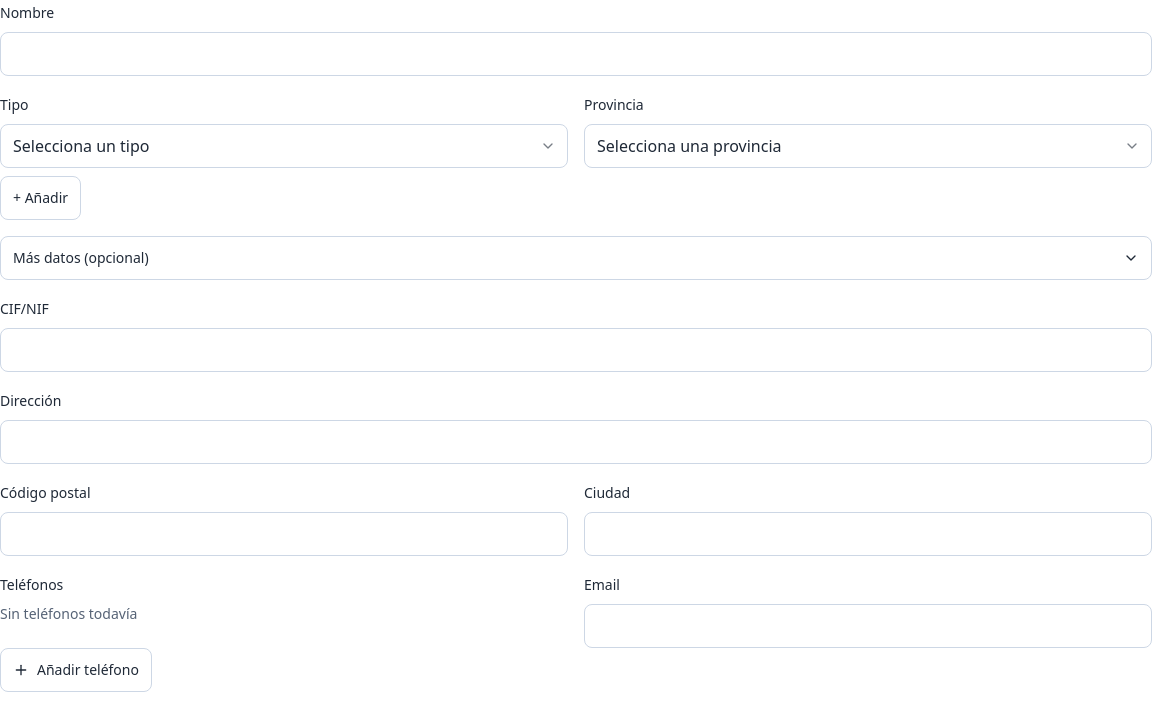
Test: AccountForm › lets an admin add an account type with its tender flag, keeping the form
Type "Consorcio de prueba" into the field labelled "Nombre" at (576, 54), box [0,32,1151,76]
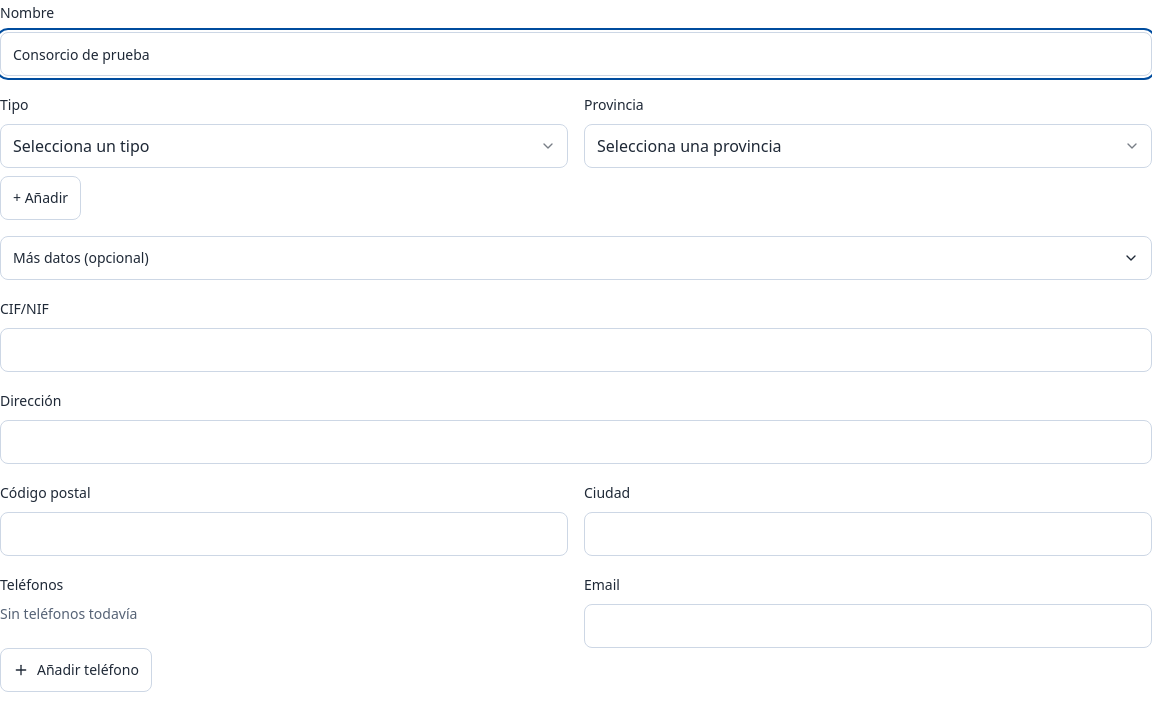
Click the button "+ Añadir" at (41, 198), box [0,176,81,220]
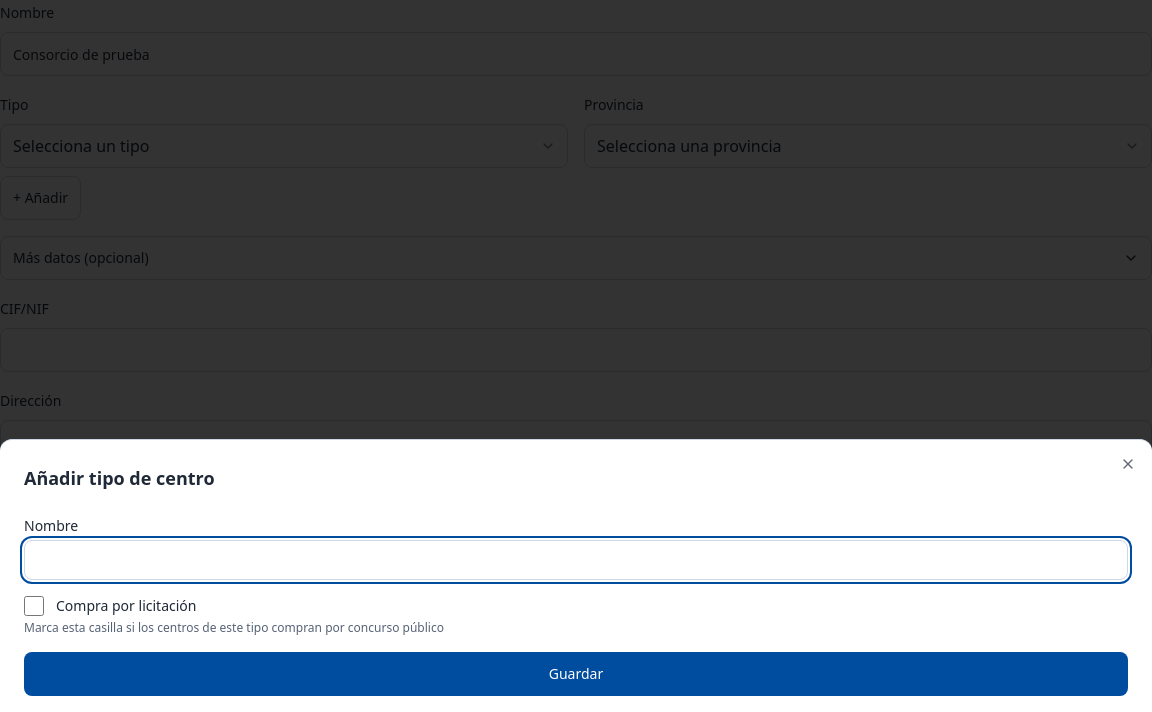
Type "Consorcio sanitario" into the field labelled "Nombre" at (576, 560), box [24,540,1128,580]
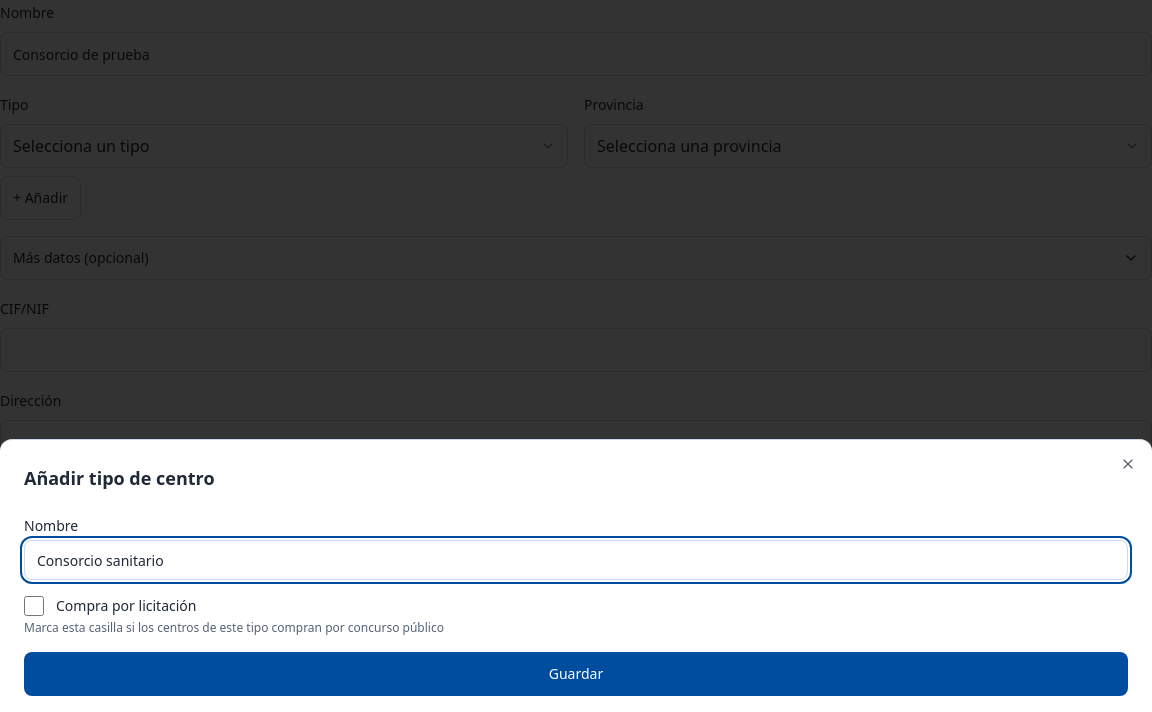
Click the checkbox labelled "Compra por licitación" at (34, 606), box [24,596,44,616]
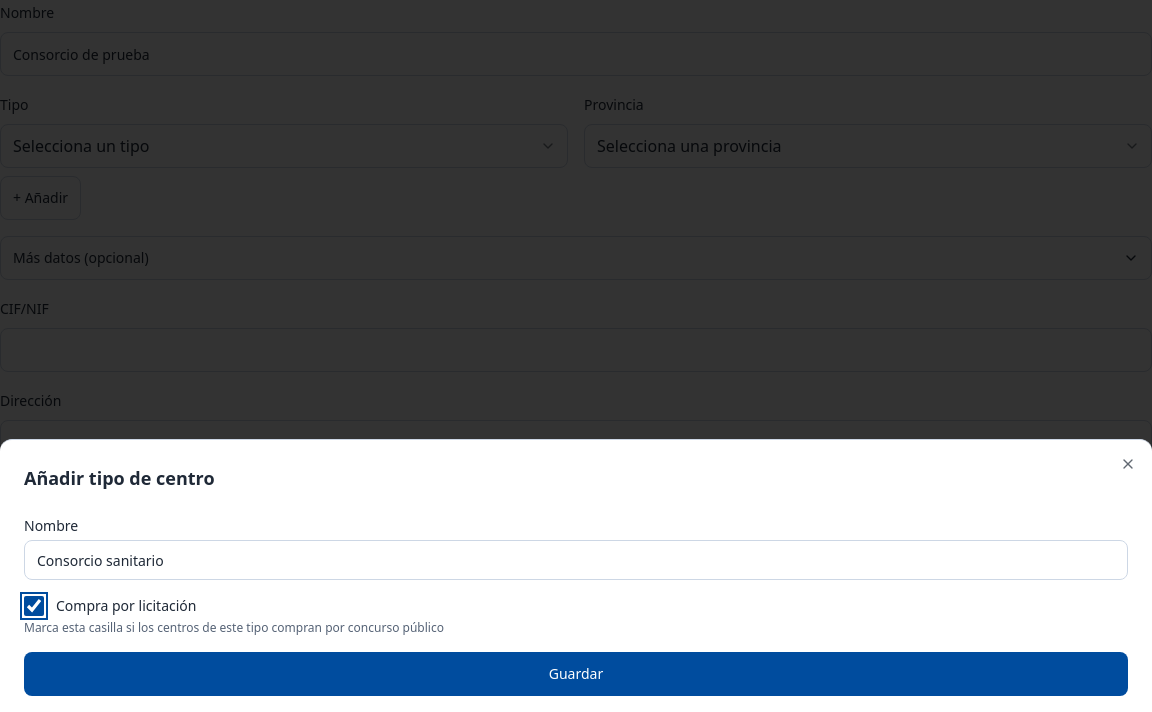
Click the button "Guardar" at (576, 674), box [24,652,1128,696]
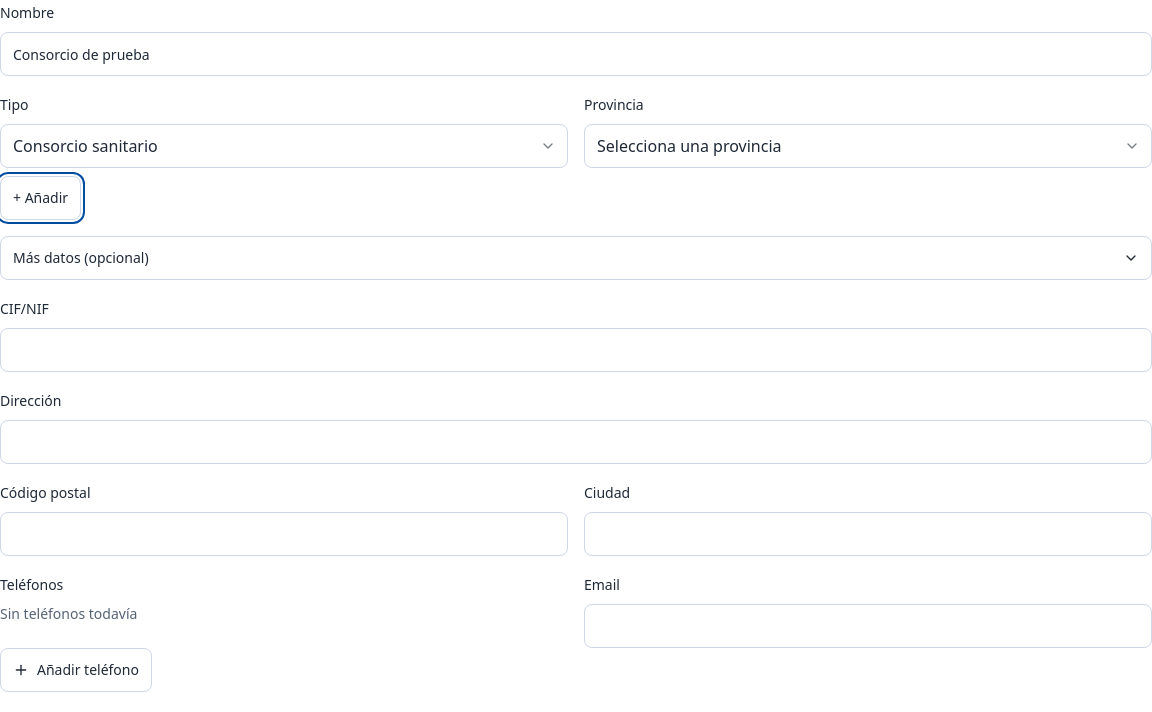
Result: the dropdown labelled "Tipo" shows "Consorcio sanitario" at [0,124,568,168]
